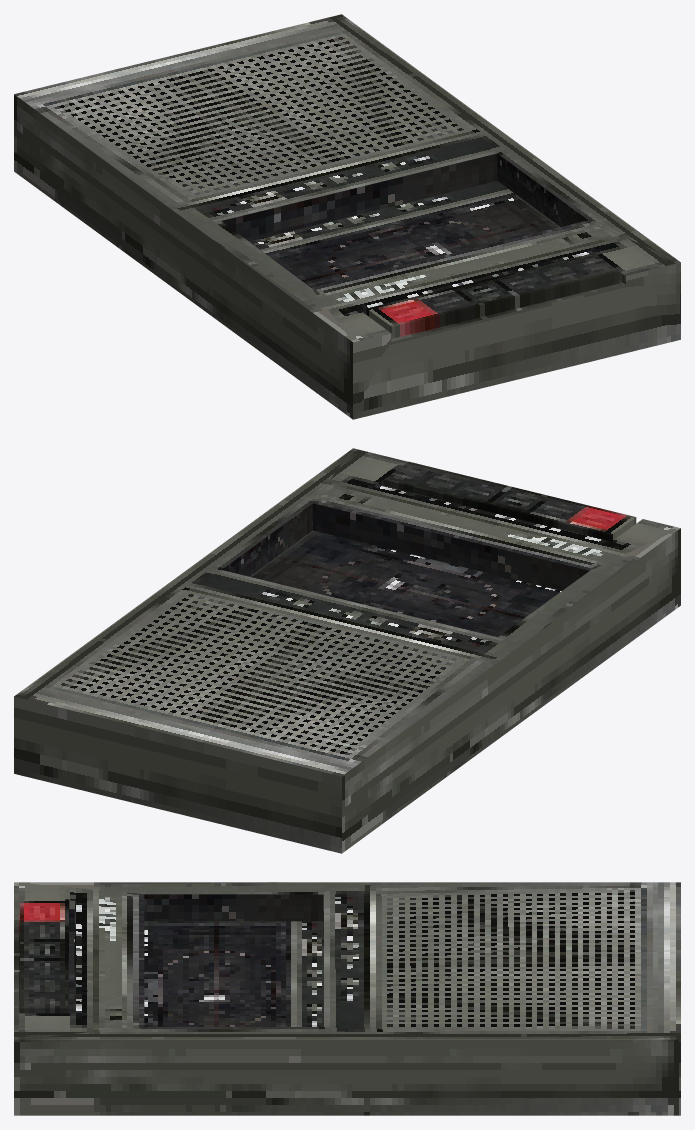
The model's file is cassete_tape_player.glb.
3 renders of one model, top to bottom at view 1: azimuth 30°, elevation 25°; view 2: azimuth 150°, elevation 25°; view 3: azimuth 270°, elevation 25°, orthographic.
Visible parts, largest first — view 1: Cube; view 2: Cube; view 3: Cube.
Part boxes in pixels (left/top/right/bottom): Cube: left=14, top=14, right=680, bottom=419; Cube: left=14, top=448, right=680, bottom=853; Cube: left=14, top=882, right=680, bottom=1115.
Bounding box in the file's own units: 0.5326 × 0.1249 × 0.9544.
Materials: 1 (1 with a texture image).
